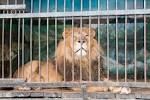lion: (12, 26, 106, 92)
